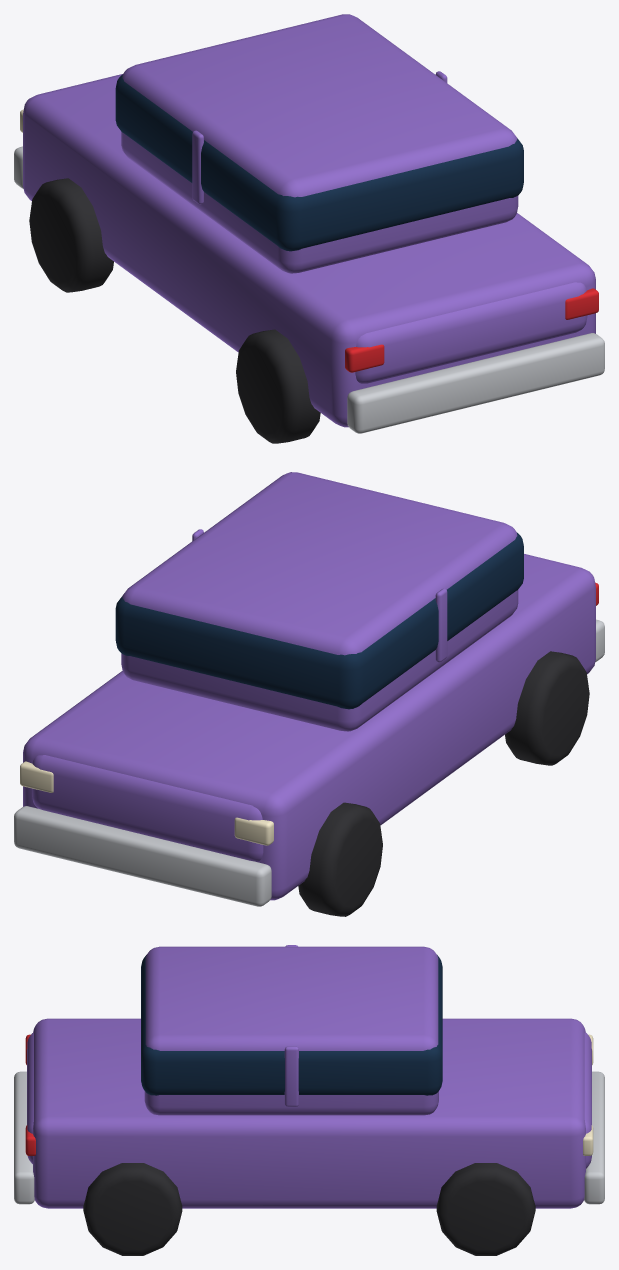
The model's file is sedan-grape.glb.
The picture shows the model from 3 angles, top to bottom: view 1: azimuth 30°, elevation 25°; view 2: azimuth 150°, elevation 25°; view 3: azimuth 270°, elevation 25°; orthographic projection. The views are drawn at different scales.
Visible parts, largest first — view 1: Sedan_Body, Sedan_Cabin, Sedan_GlassBand, Sedan_BumpR, Sedan_Trunk, Wheel_2V_Sedan, Wheel_0V_Sedan, Sedan_Tail_0, Sedan_Tail_1, Sedan_Bpil_-1; view 2: Sedan_Body, Sedan_Cabin, Sedan_GlassBand, Sedan_Hood, Sedan_BumpF, Wheel_0V_Sedan, Wheel_2V_Sedan, Sedan_Light_0, Sedan_Bpil_-1, Sedan_Light_1; view 3: Sedan_Body, Sedan_Cabin, Sedan_GlassBand, Wheel_1V_Sedan, Wheel_3V_Sedan, Sedan_BumpR, Sedan_BumpF, Sedan_Bpil_+1, Sedan_Hood, Sedan_Trunk.
Part boxes in pixels (<box>): Sedan_Body: <box>23,74,595,427</box>; Sedan_Cabin: <box>121,14,518,273</box>; Sedan_GlassBand: <box>115,74,523,251</box>; Sedan_BumpR: <box>347,333,604,433</box>; Sedan_Trunk: <box>355,282,587,383</box>; Wheel_2V_Sedan: <box>236,329,320,443</box>; Wheel_0V_Sedan: <box>29,178,113,292</box>; Sedan_Tail_0: <box>345,344,384,372</box>; Sedan_Tail_1: <box>565,288,598,319</box>; Sedan_Bpil_-1: <box>192,130,203,204</box>; Sedan_Body: <box>23,554,595,900</box>; Sedan_Cabin: <box>121,472,518,731</box>; Sedan_GlassBand: <box>115,532,523,709</box>; Sedan_Hood: <box>32,755,263,861</box>; Sedan_BumpF: <box>14,806,271,906</box>; Wheel_0V_Sedan: <box>298,802,382,916</box>; Wheel_2V_Sedan: <box>505,651,589,765</box>; Sedan_Light_0: <box>234,817,273,845</box>; Sedan_Bpil_-1: <box>435,588,447,662</box>; Sedan_Light_1: <box>20,761,53,792</box>; Sedan_Body: <box>33,1018,585,1208</box>; Sedan_Cabin: <box>144,946,438,1115</box>; Sedan_GlassBand: <box>141,955,442,1095</box>; Wheel_1V_Sedan: <box>436,1163,535,1255</box>; Wheel_3V_Sedan: <box>83,1163,182,1255</box>; Sedan_BumpR: <box>14,1071,34,1204</box>; Sedan_BumpF: <box>584,1071,604,1204</box>; Sedan_Bpil_+1: <box>284,1046,298,1106</box>; Sedan_Hood: <box>584,1032,591,1168</box>; Sedan_Trunk: <box>27,1032,33,1163</box>.
Size of the model in its own units: 2.56 by 1.91 by 5.02.
